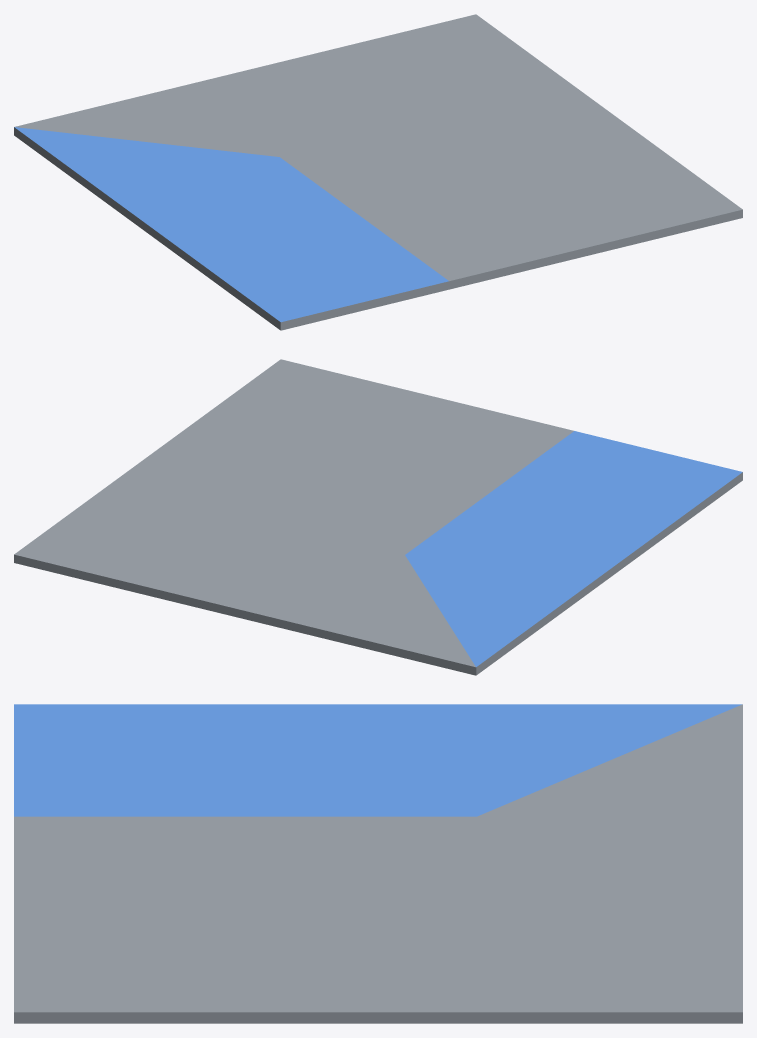
Rendered from veyran_construction_center_foundation.glb.
3 views of the same model, one above another, from view 1: azimuth 30°, elevation 25°; view 2: azimuth 150°, elevation 25°; view 3: azimuth 270°, elevation 25° (orthographic). The views are drawn at different scales.
Visible parts, largest first — view 1: hull; view 2: hull; view 3: hull.
Part boxes in pixels (x1=…): hull: x1=14, y1=14, x2=742, y2=330; hull: x1=14, y1=359, x2=742, y2=675; hull: x1=14, y1=704, x2=742, y2=1023.
Bounding box in the file's own units: 14.4 × 0.25 × 14.4.
